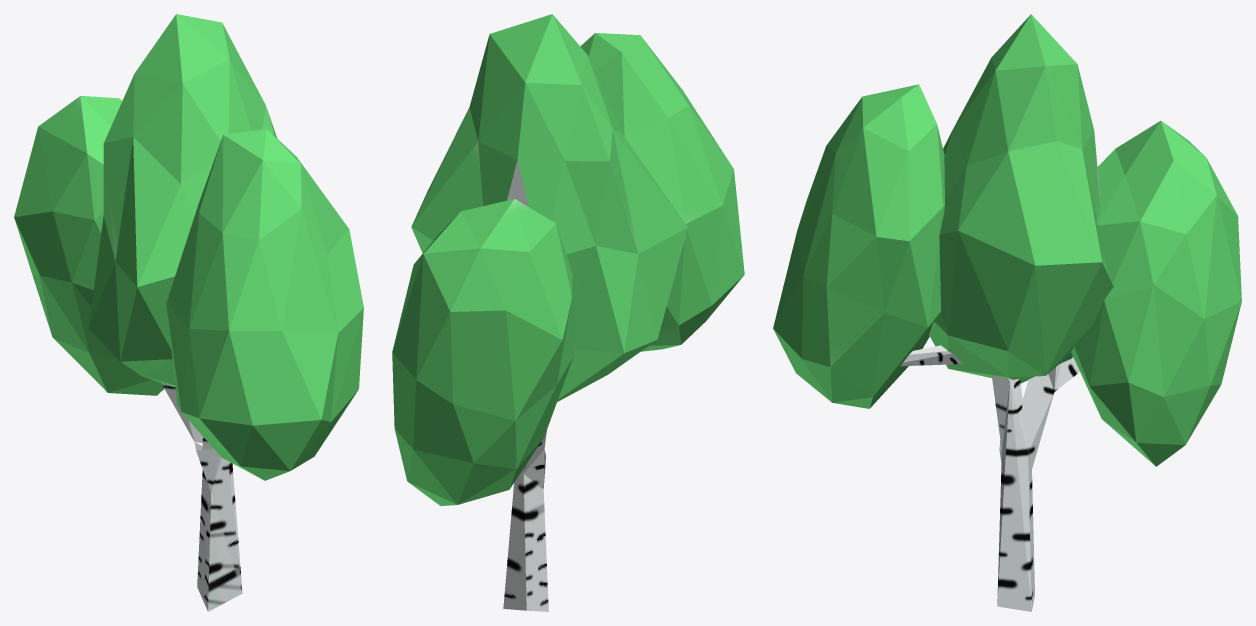
Rendered from tree10.fbx.
3 renders of one model, left to right at view 1: azimuth 30°, elevation 25°; view 2: azimuth 150°, elevation 25°; view 3: azimuth 270°, elevation 25°, orthographic. The views are drawn at different scales.
Visible parts, largest first — view 1: Икосфера; view 2: Икосфера; view 3: Икосфера.
Boxes of the visible parts, <box> form: Икосфера: <box>14,14,363,611</box>; Икосфера: <box>392,14,744,611</box>; Икосфера: <box>773,14,1241,611</box>.
Size of the model in its own units: 473 by 1309 by 956.
1 material, 1 textured.
